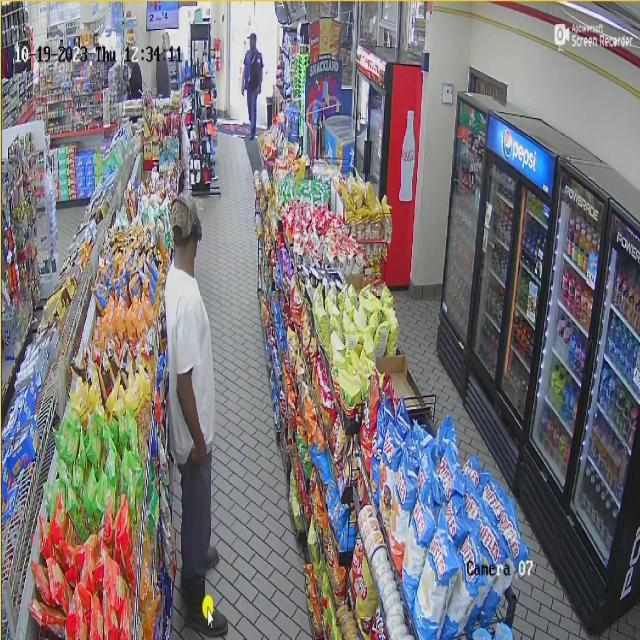Normal: (154, 192, 235, 640), (239, 22, 271, 144)
